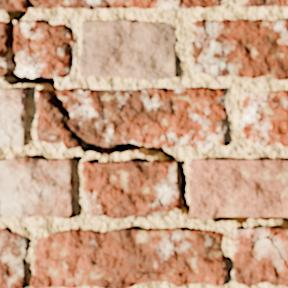brick: (31, 228, 227, 287), (191, 19, 287, 79), (189, 159, 287, 217), (80, 21, 176, 79), (82, 160, 178, 218), (0, 157, 73, 217), (234, 227, 287, 286), (240, 91, 287, 147), (32, 0, 224, 9), (0, 229, 27, 287), (0, 89, 27, 145), (273, 228, 287, 260), (0, 0, 27, 9), (238, 0, 278, 6), (282, 0, 287, 5), (273, 228, 279, 232)
broken_brick: (58, 88, 228, 149), (15, 19, 74, 78), (36, 89, 79, 149), (0, 20, 8, 73)
crack: (0, 0, 287, 269), (47, 182, 58, 216), (66, 211, 74, 219), (278, 0, 281, 6)
